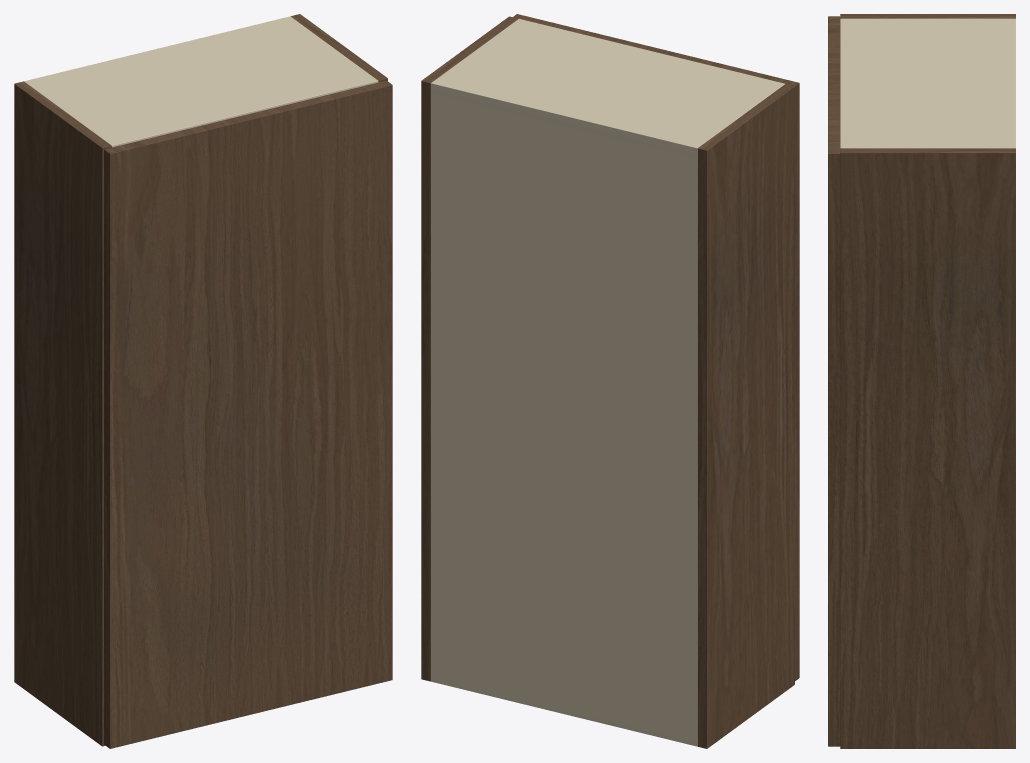
The model's file is oppein-ply-mso-w2142.glb.
3 views of the same model, side by side, from view 1: azimuth 30°, elevation 25°; view 2: azimuth 150°, elevation 25°; view 3: azimuth 270°, elevation 25° (orthographic).
Parts seen in each view (by area): view 1: Door, Cabinet side, Cabinet top, Cabinet side.001; view 2: Cabinet back, Cabinet side, Cabinet top, Cabinet side.001, Door, Cabinet bottom; view 3: Cabinet side.001, Cabinet top, Door, Cabinet side.
Boxes of the visible parts, x1,y1,x2,y2 form: Door: [104, 80, 392, 748]; Cabinet side: [14, 81, 111, 746]; Cabinet top: [24, 16, 378, 147]; Cabinet side.001: [291, 14, 387, 82]; Cabinet back: [431, 83, 697, 746]; Cabinet side: [697, 84, 794, 748]; Cabinet top: [431, 19, 784, 156]; Cabinet side.001: [421, 16, 518, 681]; Door: [513, 14, 799, 680]; Cabinet bottom: [431, 674, 697, 746]; Cabinet side.001: [840, 148, 1015, 748]; Cabinet top: [840, 18, 1015, 148]; Door: [828, 16, 840, 746]; Cabinet side: [840, 14, 1015, 18].
Size of the model in its own units: 0.5334 by 1.07 by 0.3048.
2 materials, 1 textured.
